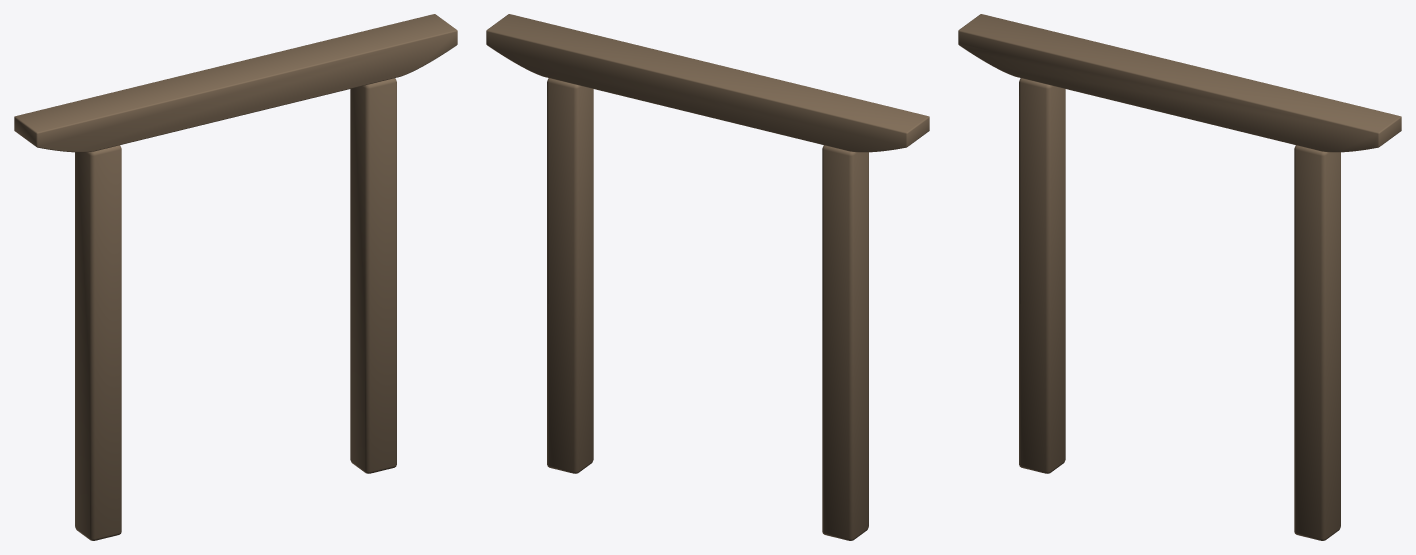
Rendered from sign_low_frame.glb.
3 views of the same model, side by side, from view 1: azimuth 30°, elevation 25°; view 2: azimuth 150°, elevation 25°; view 3: azimuth 330°, elevation 25° (orthographic).
Visible parts, largest first — view 1: g_signpost; view 2: g_signpost; view 3: g_signpost.
Boxes of the visible parts, left/top/right/bottom form: g_signpost: left=14, top=14, right=457, bottom=540; g_signpost: left=486, top=14, right=929, bottom=540; g_signpost: left=958, top=14, right=1401, bottom=540.
Bounding box in the file's own units: 1.47 × 1.42 × 0.14.
